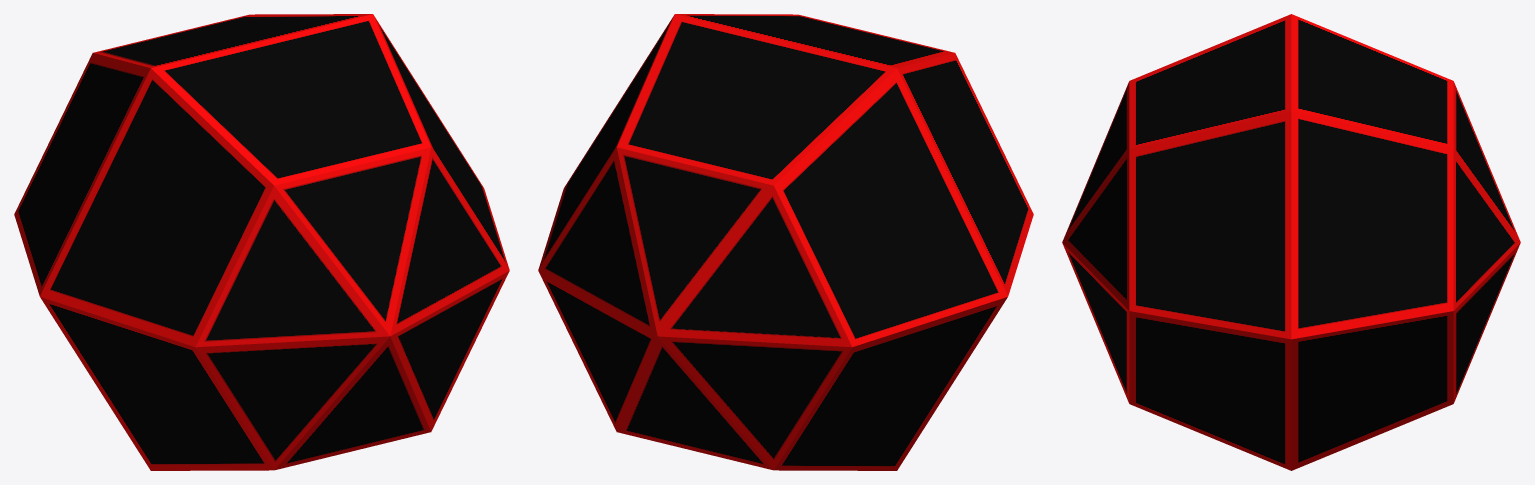
File: SpinnerEye.fbx
The picture shows the model from 3 angles, left to right: view 1: azimuth 30°, elevation 25°; view 2: azimuth 150°, elevation 25°; view 3: azimuth 270°, elevation 25°; orthographic projection. The views are drawn at different scales.
Visible parts, largest first — view 1: pSphere1; view 2: pSphere1; view 3: pSphere1.
Boxes of the visible parts, x1,y1,x2,y2 form: pSphere1: [14, 14, 509, 470]; pSphere1: [538, 14, 1033, 470]; pSphere1: [1062, 14, 1520, 470].
Bounding box in the file's own units: 1.3 × 1.13 × 1.3.
1 material, 1 textured.
